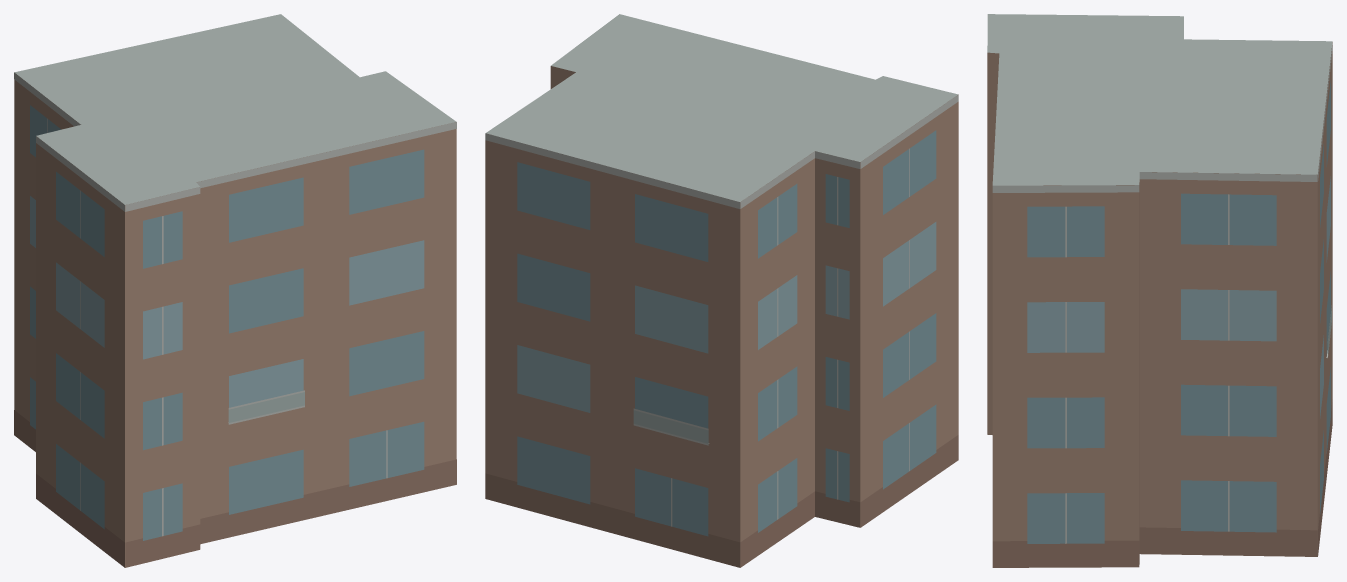
The model's file is survey-upis-32675294.glb.
The picture shows the model from 3 angles, left to right: view 1: azimuth 30°, elevation 25°; view 2: azimuth 150°, elevation 25°; view 3: azimuth 270°, elevation 25°; orthographic projection. The views are drawn at different scales.
Parts seen in each view (by area): view 1: survey-upis-32675294.tmp; view 2: survey-upis-32675294.tmp; view 3: survey-upis-32675294.tmp.
Part boxes in pixels (box(x1,y1,x2,y2)): survey-upis-32675294.tmp: box(14, 14, 456, 567); survey-upis-32675294.tmp: box(485, 14, 958, 567); survey-upis-32675294.tmp: box(987, 14, 1332, 567).
Size of the model in its own units: 12.19 by 12.64 by 10.36.
